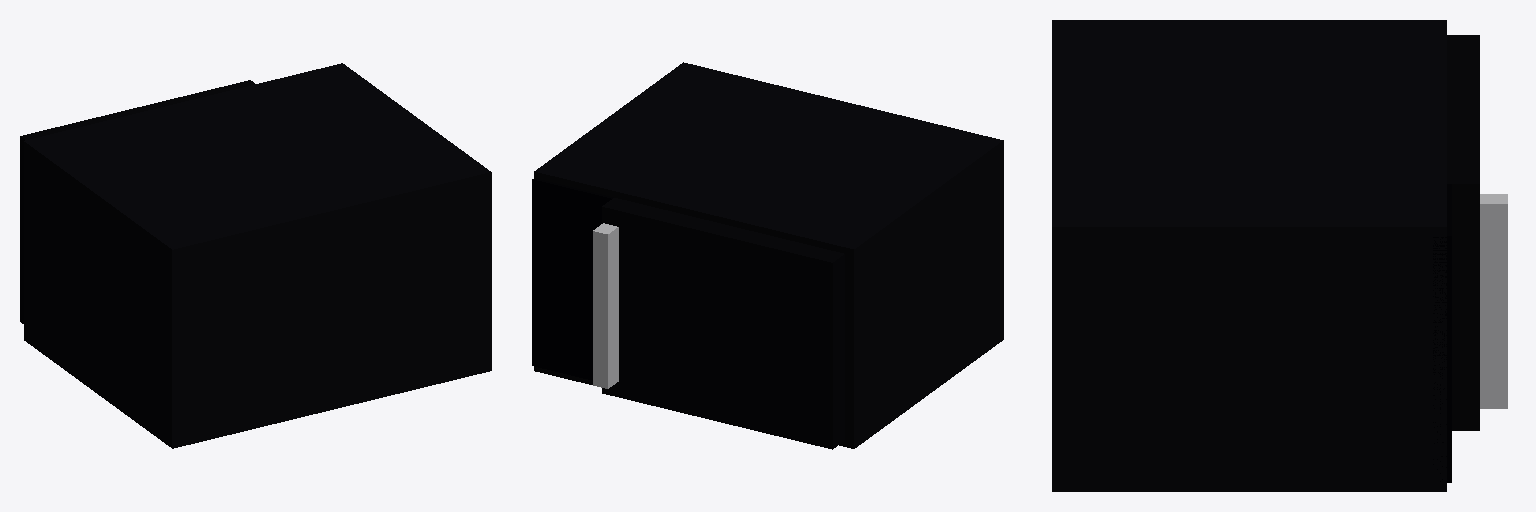
URDF robot description (samsung_microwave):
<?xml version="1.0"?>
<robot name="samsung_microwave">
  <!-- Base / body of microwave, 52cm W x 42cm D x 31cm H -->
  <link name="base_link">
    <visual>
      <origin xyz="0 0 0" rpy="0 0 0"/>
      <geometry>
        <box size="0.52 0.42 0.31"/>
      </geometry>
      <material name="black">
        <color rgba="0.05 0.05 0.06 1.0"/>
      </material>
    </visual>
    <!-- control panel strip on right front -->
    <visual>
      <origin xyz="0.195 0.205 0" rpy="0 0 0"/>
      <geometry>
        <box size="0.13 0.02 0.29"/>
      </geometry>
      <material name="black_glass">
        <color rgba="0.02 0.02 0.03 1.0"/>
      </material>
    </visual>
    <collision>
      <origin xyz="0 0 0" rpy="0 0 0"/>
      <geometry>
        <box size="0.52 0.42 0.31"/>
      </geometry>
    </collision>
    <inertial>
      <origin xyz="0 0 0" rpy="0 0 0"/>
      <mass value="12.0"/>
      <inertia ixx="0.35" ixy="0" ixz="0" iyy="0.45" iyz="0" izz="0.55"/>
    </inertial>
  </link>

  <!-- Door: ~37.5cm wide, 29cm high, 3.5cm thick, hinged on left -->
  <link name="door">
    <visual>
      <origin xyz="0.1875 0.0175 0" rpy="0 0 0"/>
      <geometry>
        <box size="0.375 0.035 0.29"/>
      </geometry>
      <material name="door_black">
        <color rgba="0.04 0.04 0.05 1.0"/>
      </material>
    </visual>
    <!-- vertical silver handle on right edge of door -->
    <visual>
      <origin xyz="0.36 0.05 0" rpy="0 0 0"/>
      <geometry>
        <box size="0.025 0.03 0.24"/>
      </geometry>
      <material name="silver">
        <color rgba="0.75 0.75 0.76 1.0"/>
      </material>
    </visual>
    <collision>
      <origin xyz="0.1875 0.0175 0" rpy="0 0 0"/>
      <geometry>
        <box size="0.375 0.035 0.29"/>
      </geometry>
    </collision>
    <inertial>
      <origin xyz="0.1875 0 0" rpy="0 0 0"/>
      <mass value="1.5"/>
      <inertia ixx="0.02" ixy="0" ixz="0" iyy="0.02" iyz="0" izz="0.03"/>
    </inertial>
  </link>

  <!-- Left-side vertical hinge, 0=closed, + rotates right edge forward -->
  <joint name="door_hinge" type="revolute">
    <parent link="base_link"/>
    <child link="door"/>
    <origin xyz="-0.245 0.21 0" rpy="0 0 0"/>
    <axis xyz="0 0 1"/>
    <limit lower="0.0" upper="1.75" effort="10.0" velocity="1.5"/>
    <dynamics damping="0.2" friction="0.1"/>
  </joint>
</robot>

--- Render facts (derived) ---
3 views of the same robot in one strip: view 1: azimuth 30°, elevation 25°; view 2: azimuth 150°, elevation 25°; view 3: azimuth 270°, elevation 25° (orthographic).
Model samsung_microwave with 2 links and 1 joints (1 revolute), rooted at base_link, posed every joint at zero.
Visible links, largest first — view 1: base_link, door; view 2: base_link, door; view 3: base_link, door.
Link boxes in pixels (box(x1,y1,x2,y2)): base_link: box(24, 63, 491, 448); door: box(20, 80, 254, 323); base_link: box(532, 62, 1003, 448); door: box(593, 198, 844, 449); base_link: box(1052, 20, 1451, 491); door: box(1447, 35, 1507, 430).
Size in the robot's own frame: 0.52 by 0.485 by 0.31 metres.
Geometry: primitives only (box / cylinder / sphere), no mesh files.
